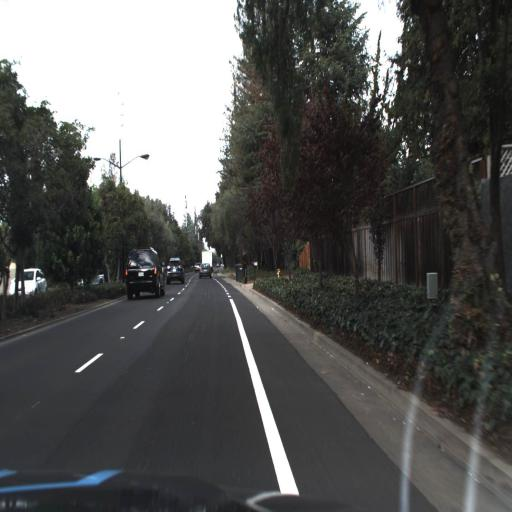car: (120, 241, 163, 303), (11, 267, 47, 302), (163, 250, 185, 284), (197, 258, 212, 280)
truck: (198, 246, 214, 277)
